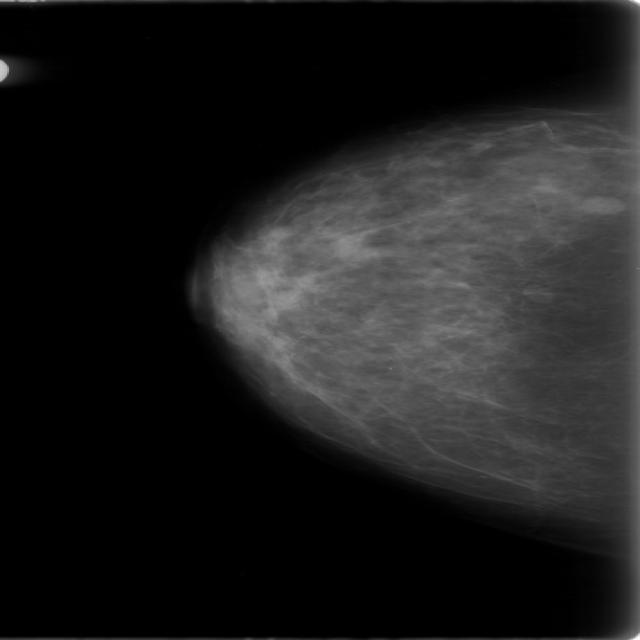tumour: (574, 193, 626, 215)
